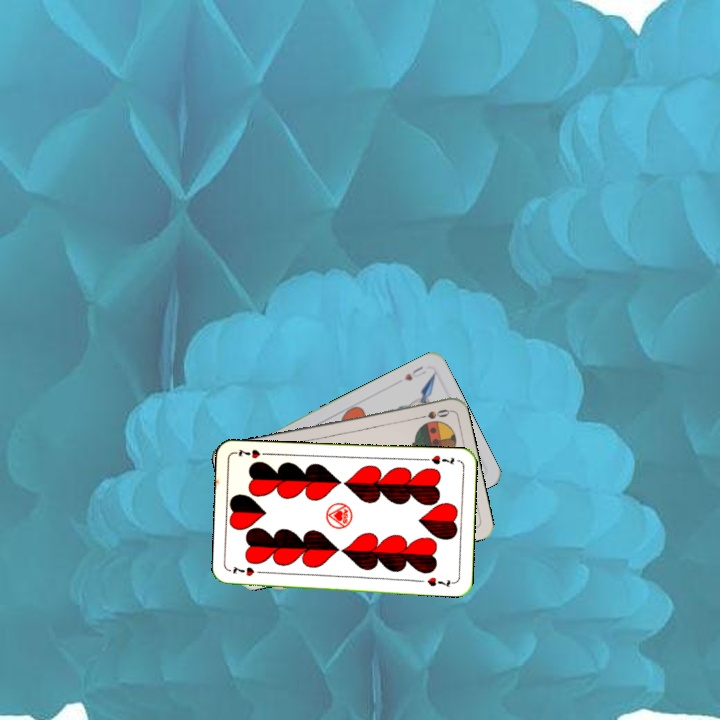H7: (420, 451, 457, 467), (229, 564, 268, 579)
HU: (400, 362, 428, 383)
SO: (412, 405, 452, 422)
